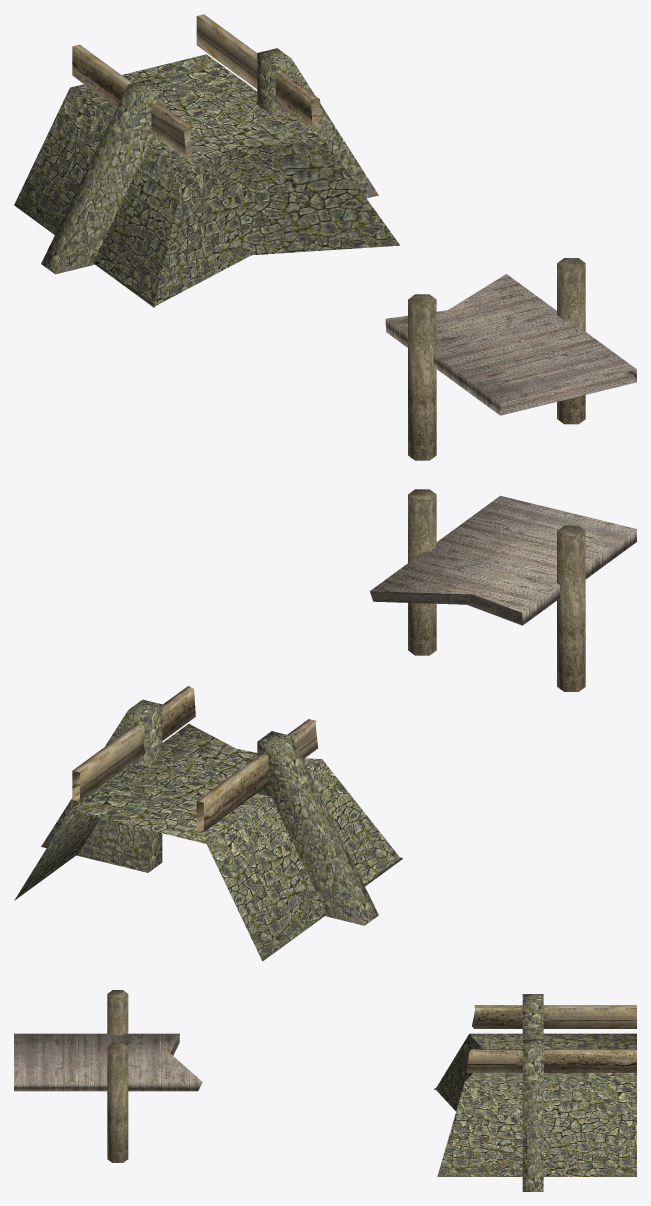
Rendered from Bridge2Stone.fbx.
3 views of the same model, one above another, from view 1: azimuth 30°, elevation 25°; view 2: azimuth 150°, elevation 25°; view 3: azimuth 270°, elevation 25° (orthographic). The views are drawn at different scales.
Parts seen in each view (by area): view 1: Bridge2Stone; view 2: Bridge2Stone; view 3: Bridge2Stone.
Part boxes in pixels (x1=…): Bridge2Stone: x1=14, y1=14, x2=636, y2=460; Bridge2Stone: x1=14, y1=489, x2=636, y2=961; Bridge2Stone: x1=14, y1=990, x2=636, y2=1191.
Size of the model in its own units: 130 by 60.89 by 300.
